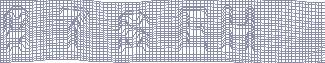7: (58, 5, 90, 51)
9: (1, 5, 32, 54)
E: (177, 6, 210, 55)
H: (219, 4, 255, 55)
S: (117, 10, 153, 56)
